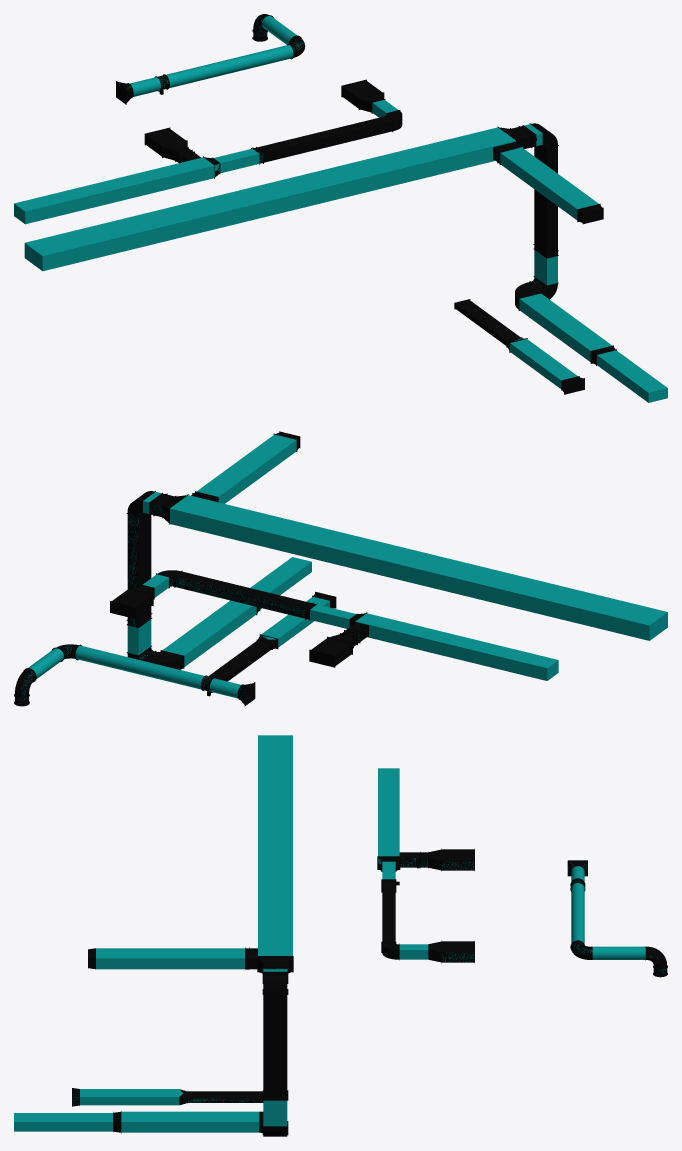
File: GCC-AAV-13220-30.nwd(31).fbx
The picture shows the model from 3 angles, top to bottom: view 1: azimuth 30°, elevation 25°; view 2: azimuth 150°, elevation 25°; view 3: azimuth 270°, elevation 25°; orthographic projection. The views are drawn at different scales.
Parts seen in each view (by area): view 1: Параллелепипед (×8), STRT 1 of BRANCH /794-13220-BD-001-EF-301E-EA-0001-009, Цилиндр, STRT 2 of BRANCH /794-13220-BD-001-AHU-305A-SAA-0001-002, STRT 1 of BRANCH /794-13220-BD-001-EF-312A-EA-0001-001, STRT 2 of BRANCH /794-13220-BD-001-EF-301E-EA-0001-009, STRT 3 of BRANCH /794-13220-BD-001-EF-301E-EA-0001-012; view 2: Параллелепипед (×8), STRT 1 of BRANCH /794-13220-BD-001-EF-301E-EA-0001-009 (×2), Цилиндр (×3), STRT 2 of BRANCH /794-13220-BD-001-AHU-305A-SAA-0001-002, STRT 1 of BRANCH /794-13220-BD-001-EF-312A-EA-0001-001, STRT 2 of BRANCH /794-13220-BD-001-EF-301E-EA-0001-009, STRT 3 of BRANCH /794-13220-BD-001-EF-301E-EA-0001-012, ELBOW 1 of BRANCH /794-13220-BD-001-AHU-305A-SAA-0001-002, ELBOW 1 of BRANCH /794-13220-BD-001-AHU-301A-SAA-0001-001; view 3: Параллелепипед (×7), STRT 2 of BRANCH /794-13220-BD-001-AHU-305A-SAA-0001-002, Цилиндр (×2), STRT 1 of BRANCH /794-13220-BD-001-EF-312A-EA-0001-001, STRT 1 of BRANCH /794-13220-BD-001-EF-301E-EA-0001-009, STRT 2 of BRANCH /794-13220-BD-001-EF-301E-EA-0001-009, STRT 3 of BRANCH /794-13220-BD-001-EF-301E-EA-0001-012, ELBOW 3 of BRANCH /794-13220-BD-001-AHU-305A-SAA-0001-002.
Boxes of the visible parts, box(x1,y1,x2,y2) form: Параллелепипед (×8): box(14, 127, 667, 402); STRT 1 of BRANCH /794-13220-BD-001-EF-301E-EA-0001-009: box(257, 115, 393, 163); Цилиндр: box(166, 45, 293, 87); STRT 2 of BRANCH /794-13220-BD-001-AHU-305A-SAA-0001-002: box(533, 145, 558, 253); STRT 1 of BRANCH /794-13220-BD-001-EF-312A-EA-0001-001: box(454, 299, 520, 345); STRT 2 of BRANCH /794-13220-BD-001-EF-301E-EA-0001-009: box(341, 79, 382, 108); STRT 3 of BRANCH /794-13220-BD-001-EF-301E-EA-0001-012: box(144, 127, 185, 156); Параллелепипед (×8): box(127, 434, 667, 680); STRT 1 of BRANCH /794-13220-BD-001-EF-301E-EA-0001-009 (×2): box(174, 571, 311, 619); Цилиндр (×3): box(28, 645, 240, 698); STRT 2 of BRANCH /794-13220-BD-001-AHU-305A-SAA-0001-002: box(126, 513, 152, 623); STRT 1 of BRANCH /794-13220-BD-001-EF-312A-EA-0001-001: box(208, 639, 272, 681); STRT 2 of BRANCH /794-13220-BD-001-EF-301E-EA-0001-009: box(112, 588, 153, 618); STRT 3 of BRANCH /794-13220-BD-001-EF-301E-EA-0001-012: box(311, 637, 352, 665); ELBOW 1 of BRANCH /794-13220-BD-001-AHU-305A-SAA-0001-002: box(142, 650, 184, 669); ELBOW 1 of BRANCH /794-13220-BD-001-AHU-301A-SAA-0001-001: box(14, 668, 36, 698); Параллелепипед (×7): box(14, 735, 399, 1132); STRT 2 of BRANCH /794-13220-BD-001-AHU-305A-SAA-0001-002: box(262, 995, 288, 1095); Цилиндр (×2): box(571, 883, 645, 959); STRT 1 of BRANCH /794-13220-BD-001-EF-312A-EA-0001-001: box(187, 1090, 263, 1103); STRT 1 of BRANCH /794-13220-BD-001-EF-301E-EA-0001-009: box(381, 881, 396, 941); STRT 2 of BRANCH /794-13220-BD-001-EF-301E-EA-0001-009: box(441, 941, 474, 962); STRT 3 of BRANCH /794-13220-BD-001-EF-301E-EA-0001-012: box(441, 849, 474, 870); ELBOW 3 of BRANCH /794-13220-BD-001-AHU-305A-SAA-0001-002: box(262, 971, 288, 994).
Size of the model in its own units: 845 by 268 by 960.
